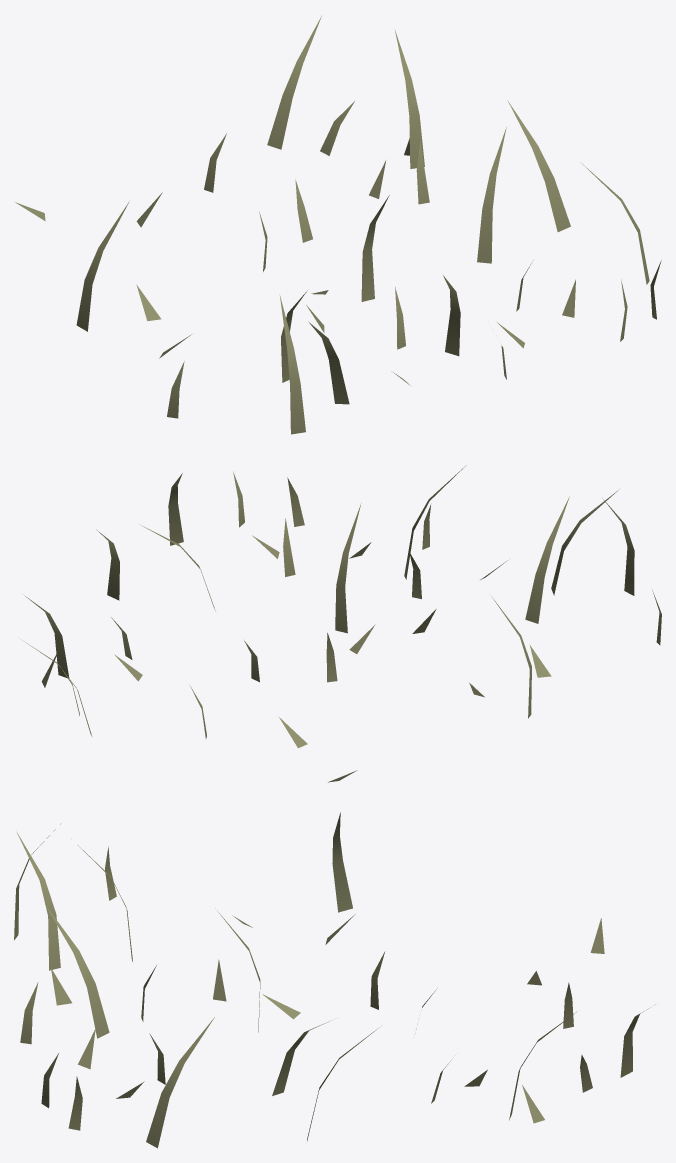
File: Grass_1.fbx
The picture shows the model from 3 angles, top to bottom: view 1: azimuth 30°, elevation 25°; view 2: azimuth 150°, elevation 25°; view 3: azimuth 270°, elevation 25°; orthographic projection. The views are drawn at different scales.
Visible parts, largest first — view 1: Grass_1; view 2: Grass_1; view 3: Grass_1.
Part boxes in pixels (x1,y1,x2,y2): Grass_1: [15, 16, 661, 434]; Grass_1: [22, 465, 661, 782]; Grass_1: [14, 812, 655, 1148].
Bounding box in the file's own units: 0.9559 × 1.04 × 0.2251.
